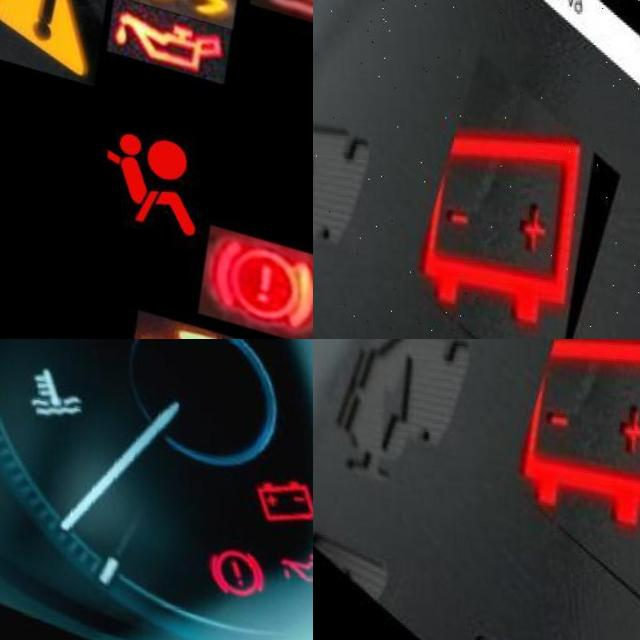Central Warning lamp: (0, 0, 114, 81)
Engine cooling system: (10, 361, 85, 434)
